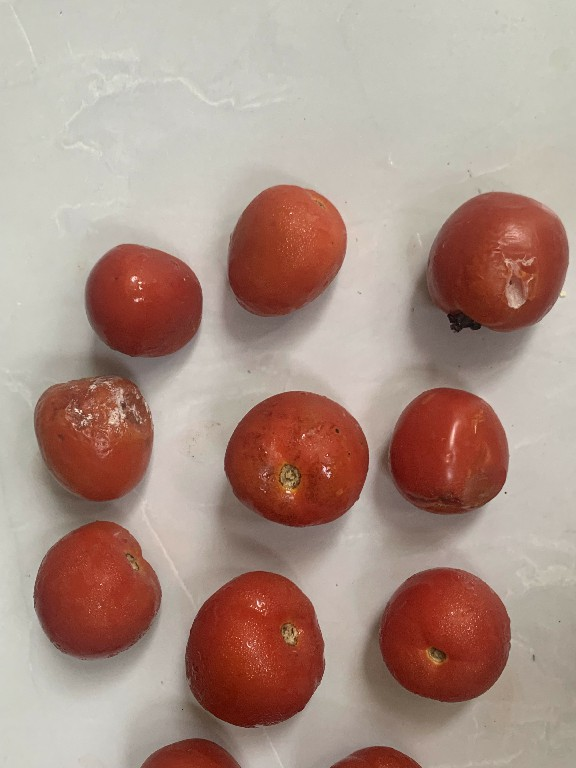NG: (412, 183, 568, 344), (377, 371, 534, 525), (220, 381, 369, 532), (26, 365, 163, 508)
OK: (170, 566, 329, 740), (374, 550, 522, 727), (209, 174, 353, 332), (24, 519, 163, 661), (79, 234, 205, 372)
